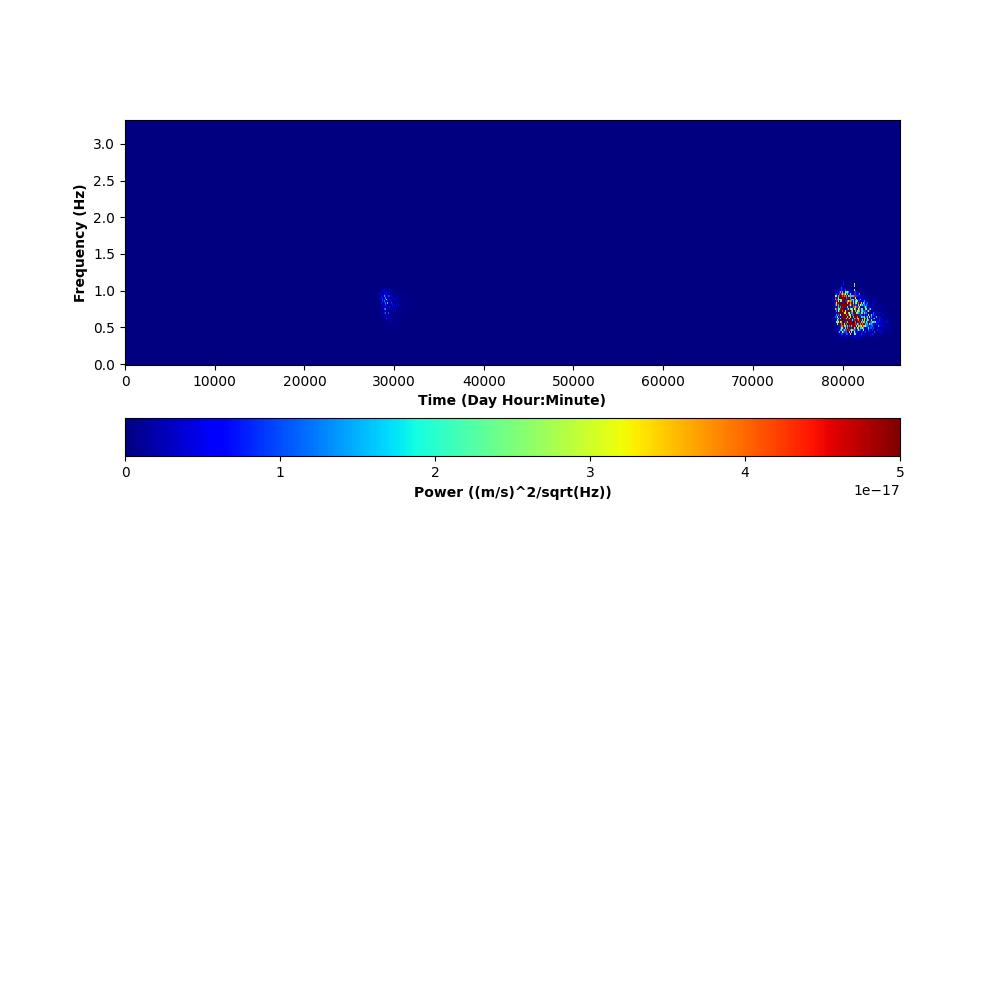Detection: (831, 280, 887, 342), (378, 287, 410, 332)
